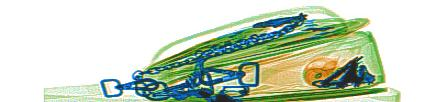plasticBottleWithaNozzle: (300, 56, 339, 87)
